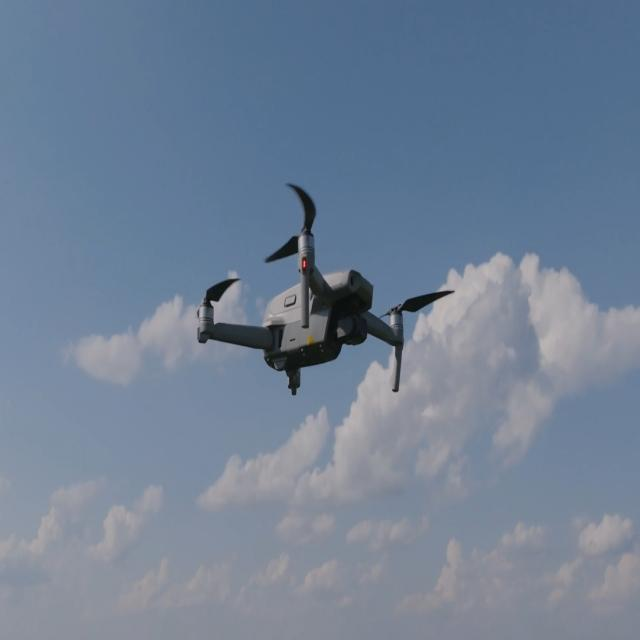Drone: (183, 194, 454, 402)
